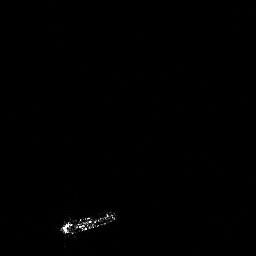ship: (58, 209, 118, 236)
